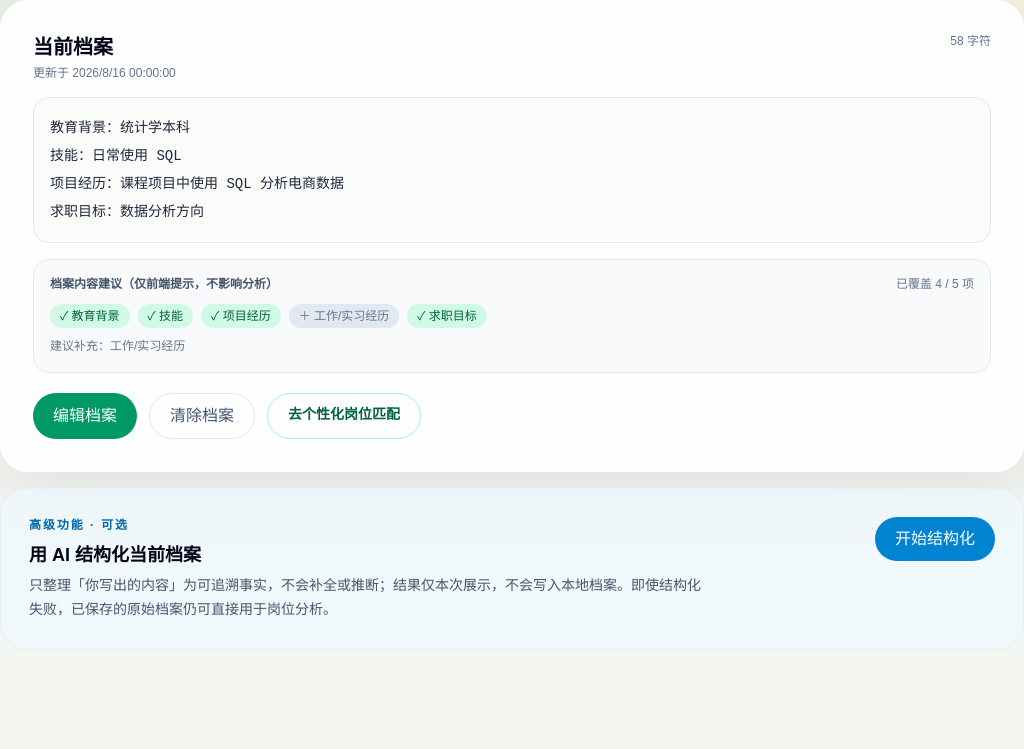
Test: ProfileManager › clears the profile only after confirmation
This screenshot has width=1024, height=749.
Click the button "清除档案" at (202,416), box [149, 393, 255, 439]
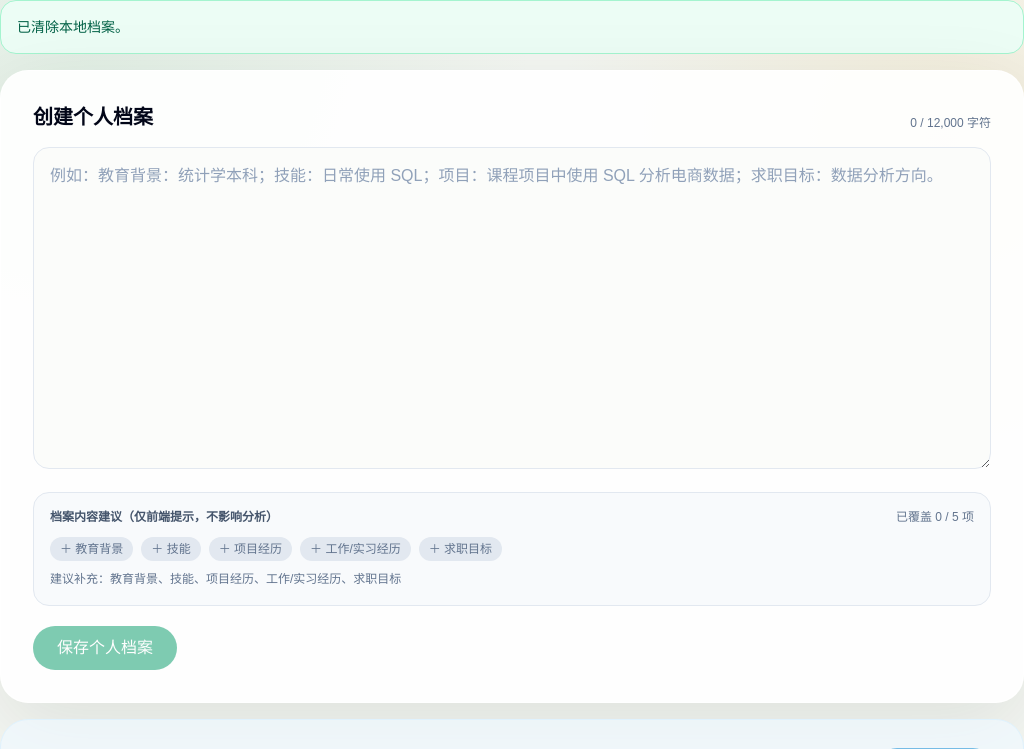
Result: the heading "创建个人档案" is shown at [33, 103, 153, 131]
